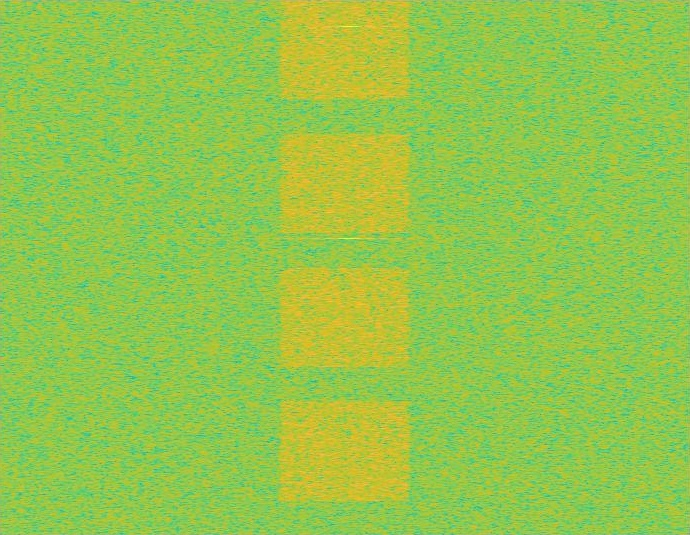5G: (276, 0, 414, 534)
Radar: (343, 0, 357, 534)
